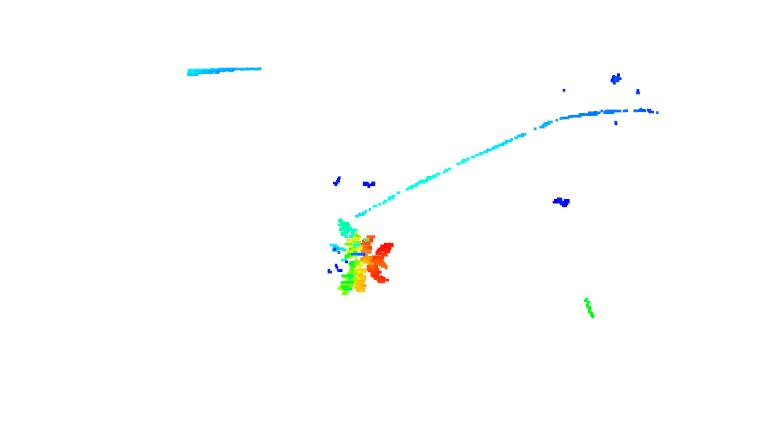chickpea: (326, 220, 394, 296)
